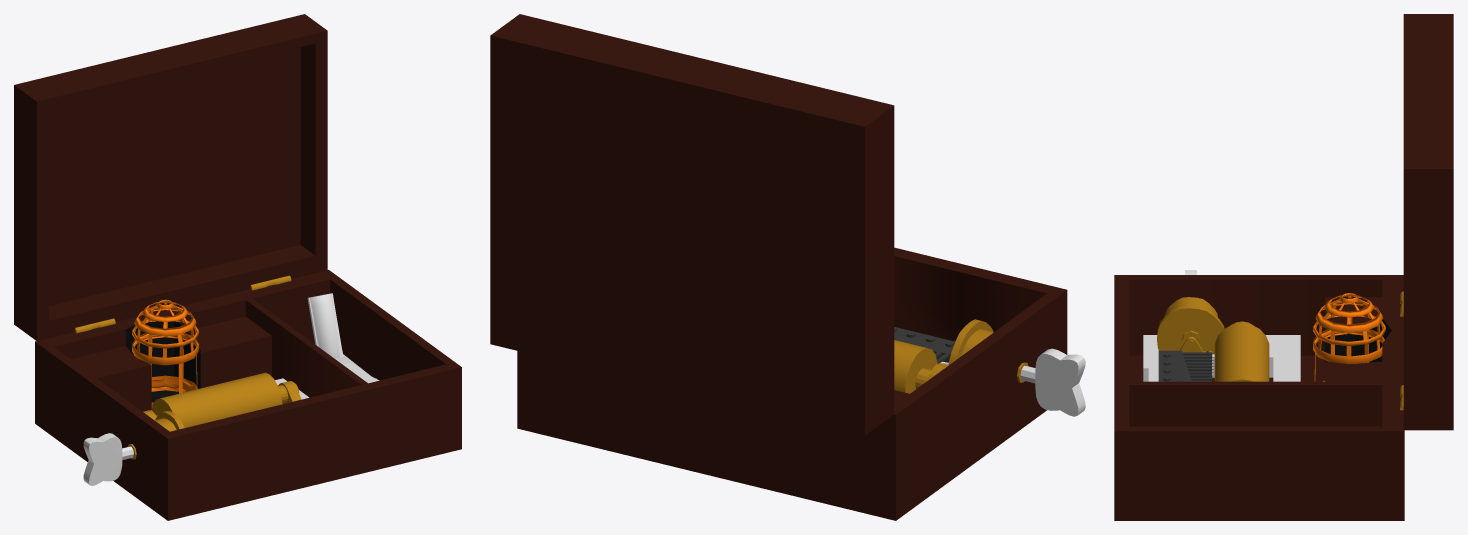
The model's file is MusicBox.FBX.
3 views of the same model, side by side, from view 1: azimuth 30°, elevation 25°; view 2: azimuth 150°, elevation 25°; view 3: azimuth 270°, elevation 25° (orthographic). The views are drawn at different scales.
Visible parts, largest first — view 1: Cover, MusicBox, MusicalDrum, Cage, Key, Harmonica, NewCage, Torus005, Torus002, Torus006; view 2: Cover, MusicBox, Key, MusicalDrum, Gear, Notes; view 3: MusicBox, Cover, MusicalDrum, Gear, Base, Notes, Torus005, Cage, NewCage, Torus002, Torus001, Torus003.
Part boxes in pixels (x1=…): Cover: x1=14, y1=14, x2=327, y2=340; MusicBox: x1=35, y1=270, x2=461, y2=520; MusicalDrum: x1=143, y1=372, x2=282, y2=427; Cage: x1=125, y1=321, x2=200, y2=402; Key: x1=83, y1=433, x2=133, y2=485; Harmonica: x1=307, y1=293, x2=343, y2=358; NewCage: x1=134, y1=302, x2=197, y2=393; Torus005: x1=132, y1=333, x2=198, y2=365; Torus002: x1=134, y1=306, x2=196, y2=336; Torus006: x1=151, y1=375, x2=197, y2=409; Cover: x1=490, y1=14, x2=894, y2=435; MusicBox: x1=517, y1=247, x2=1067, y2=520; Key: x1=1020, y1=348, x2=1085, y2=416; MusicalDrum: x1=894, y1=340, x2=948, y2=393; Gear: x1=948, y1=319, x2=993, y2=364; Notes: x1=894, y1=327, x2=954, y2=363; MusicBox: x1=1114, y1=275, x2=1404, y2=520; Cover: x1=1403, y1=14, x2=1453, y2=430; MusicalDrum: x1=1214, y1=321, x2=1269, y2=381; Gear: x1=1157, y1=297, x2=1224, y2=354; Base: x1=1143, y1=335, x2=1300, y2=381; Notes: x1=1158, y1=350, x2=1213, y2=381; Torus005: x1=1313, y1=329, x2=1384, y2=364; Cage: x1=1325, y1=319, x2=1391, y2=363; NewCage: x1=1314, y1=295, x2=1383, y2=381; Torus002: x1=1315, y1=300, x2=1383, y2=332; Torus001: x1=1313, y1=313, x2=1385, y2=346; Torus003: x1=1324, y1=295, x2=1374, y2=317.
Size of the model in its own units: 43.36 by 39.16 by 34.28.
